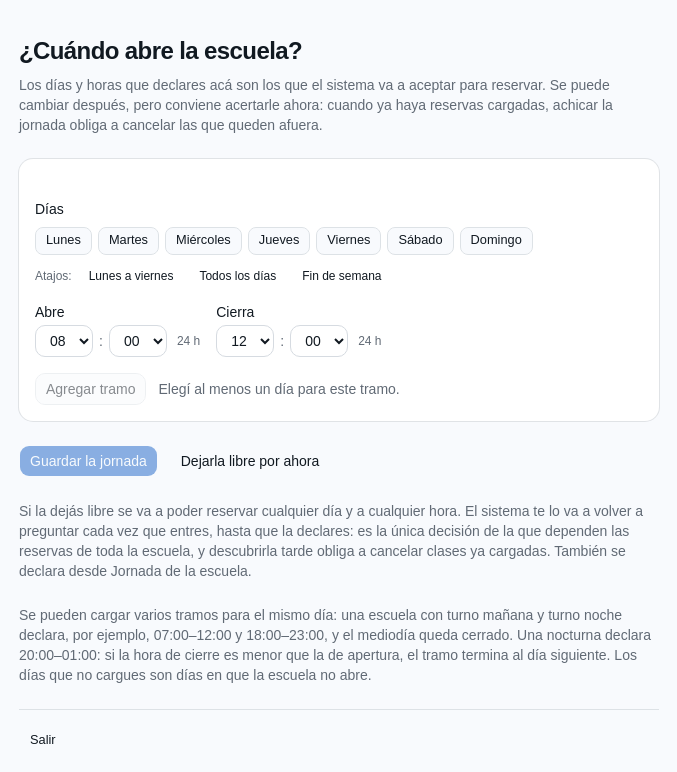
Test: PrimeraJornadaPage › muestra el error del backend
Click the button "Lunes".
click(63, 240)  # box left=35, top=226, right=92, bottom=254
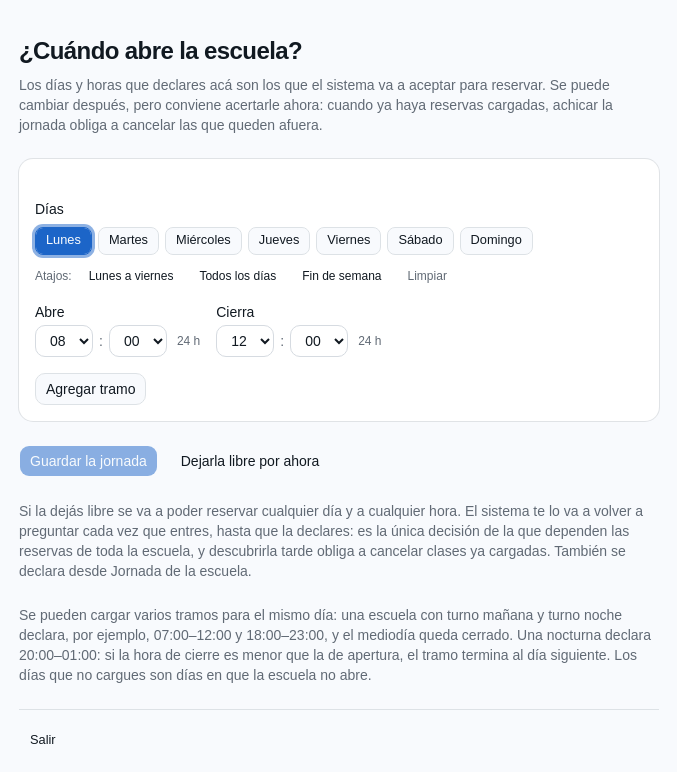
Click the button "Agregar tramo".
click(91, 388)  # box left=35, top=372, right=146, bottom=404
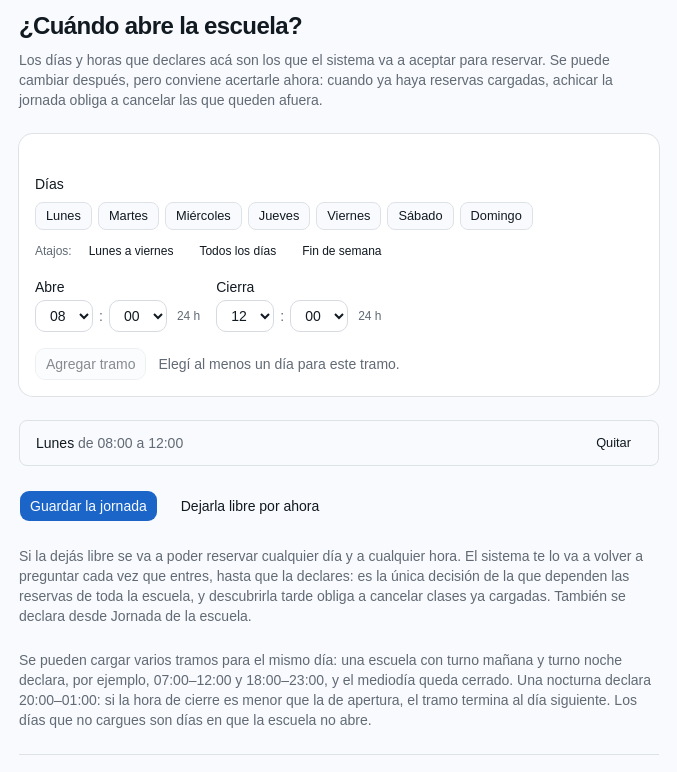
Click the button "Guardar la jornada".
click(88, 506)  # box left=19, top=490, right=158, bottom=522
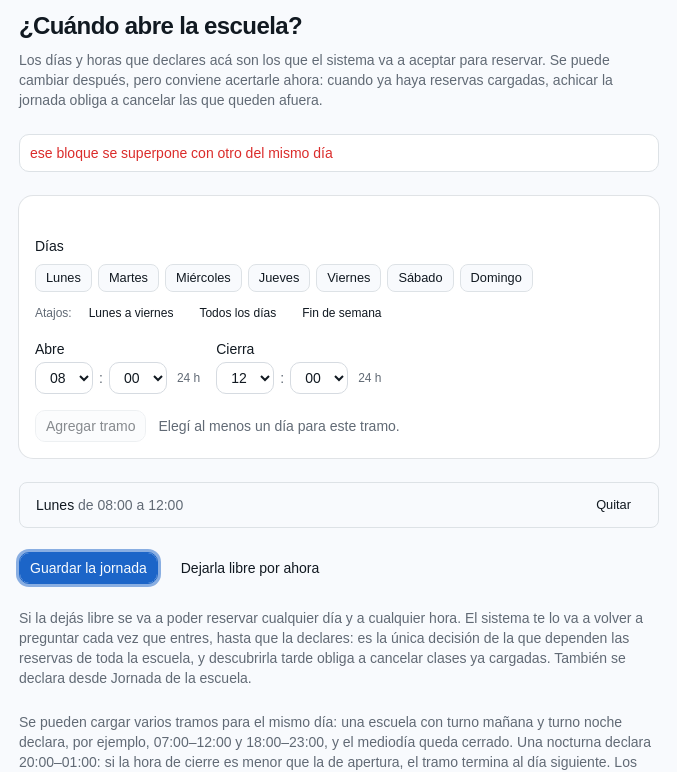
Expected: the text "ese bloque se superpone con otro del mismo día" is shown, left=30, top=145, right=333, bottom=161
